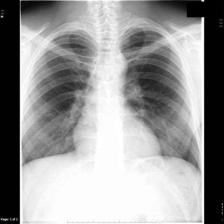tuberculosis: (21, 12, 205, 190)
